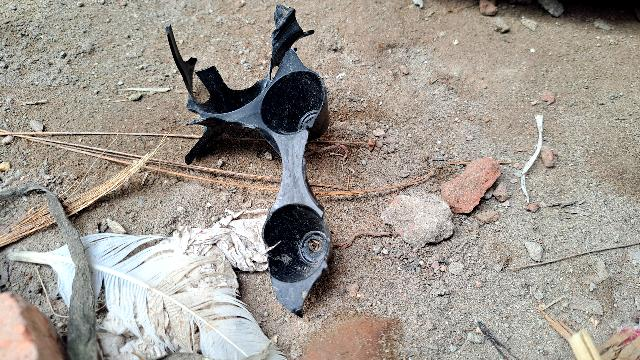hardplastic: (186, 46, 360, 307)
